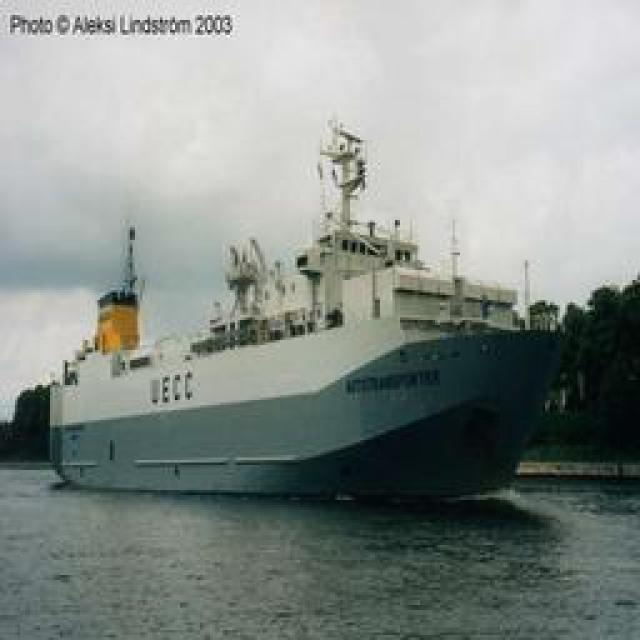Ship: (40, 114, 571, 507)
